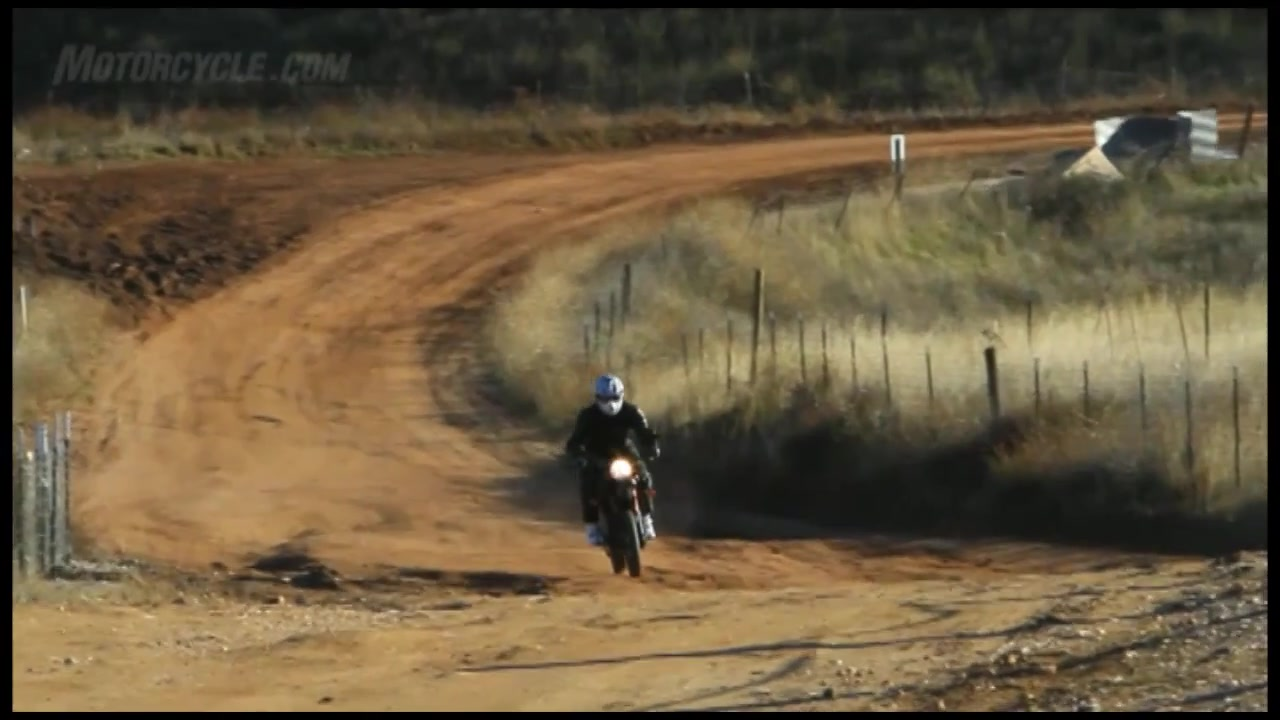motorbike: (567, 445, 666, 577)
